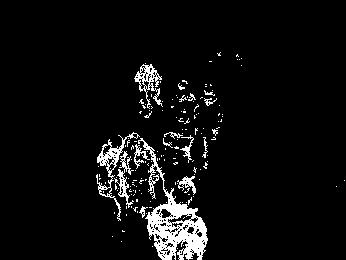person: (147, 178, 208, 260), (118, 133, 161, 215), (97, 136, 126, 218), (198, 84, 224, 170), (161, 131, 195, 193), (175, 78, 195, 131)
